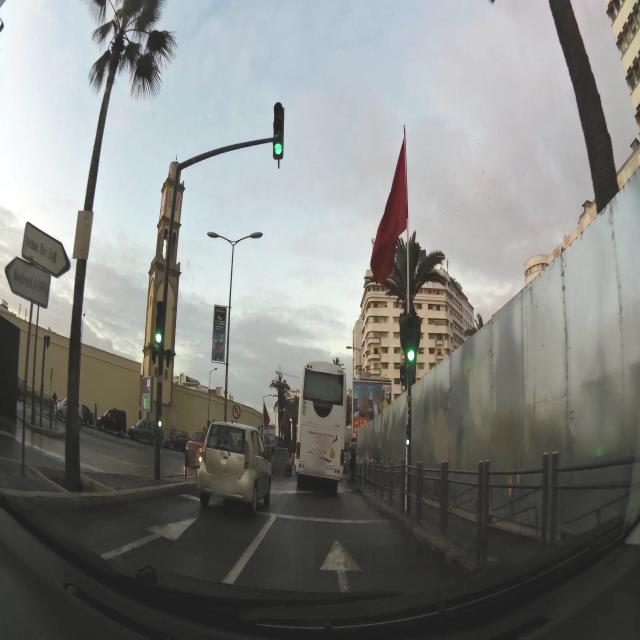car: (197, 412, 272, 515), (185, 427, 209, 470), (128, 418, 163, 444), (95, 408, 127, 435), (270, 447, 294, 477), (165, 430, 190, 451)
